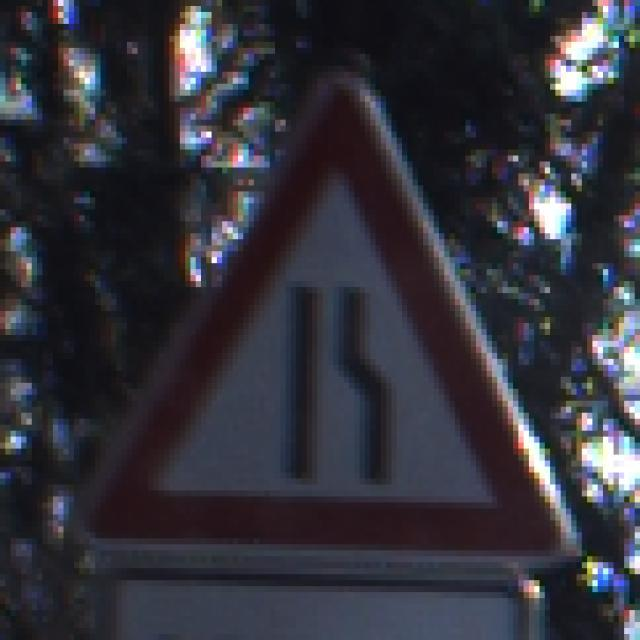narrow road ahead: (81, 74, 567, 559)
